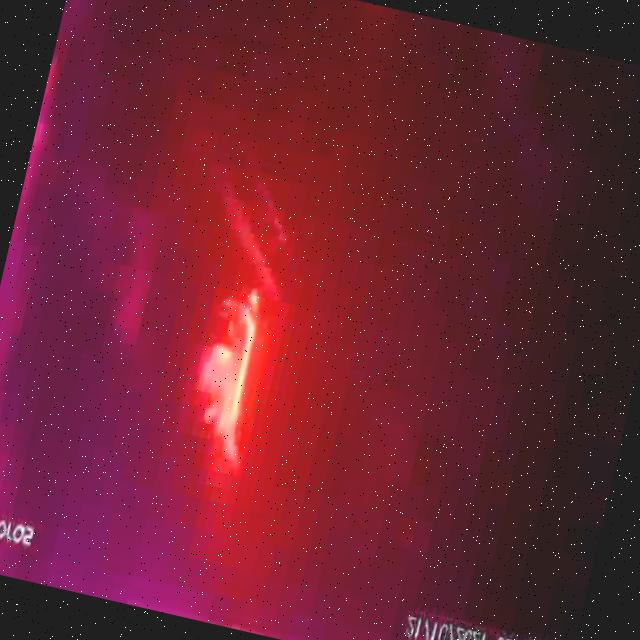fire: (117, 230, 323, 542)
